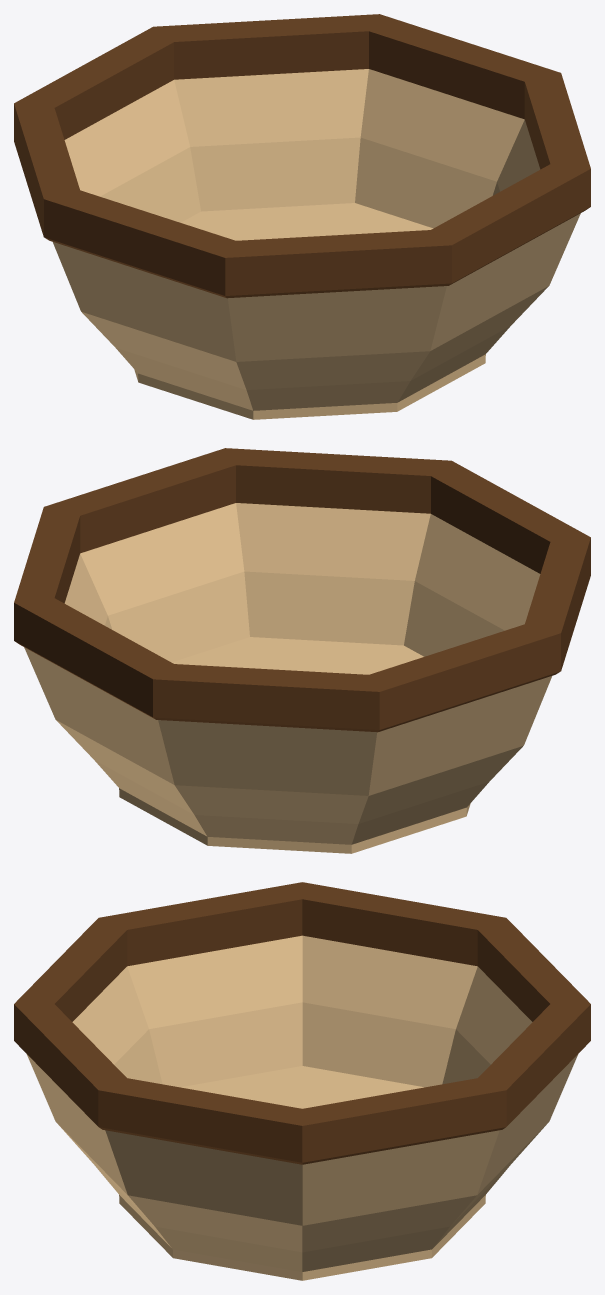
Rendered from mangkok.glb.
The picture shows the model from 3 angles, top to bottom: view 1: azimuth 30°, elevation 25°; view 2: azimuth 150°, elevation 25°; view 3: azimuth 270°, elevation 25°; orthographic projection. The views are drawn at different scales.
Visible parts, largest first — view 1: Circle; view 2: Circle; view 3: Circle.
Boxes of the visible parts, box(x1,y1,x2,y2) form: Circle: box(14, 14, 590, 419); Circle: box(14, 448, 590, 853); Circle: box(14, 882, 590, 1280).
Size of the model in its own units: 2.14 by 0.8175 by 2.14.
